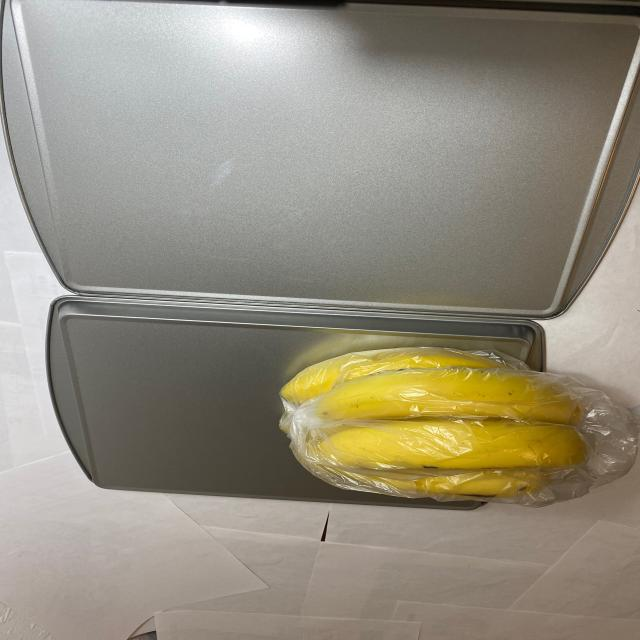banana: (273, 338, 596, 496)
